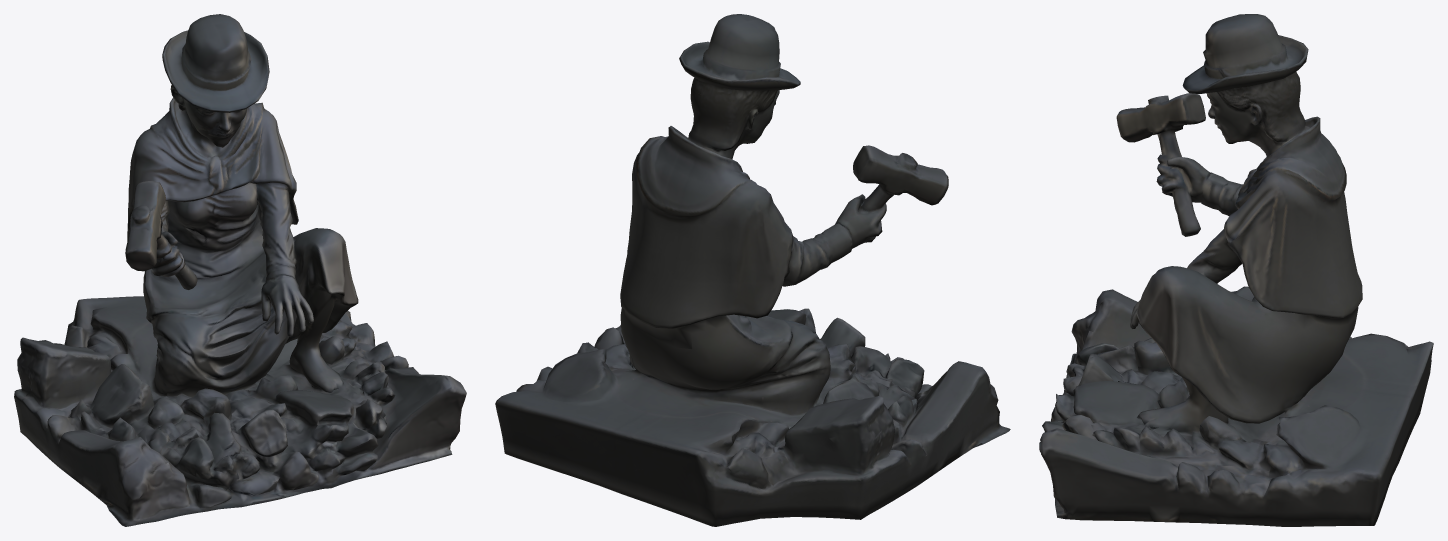
The model's file is palliriplz.glb.
3 views of the same model, side by side, from view 1: azimuth 30°, elevation 25°; view 2: azimuth 150°, elevation 25°; view 3: azimuth 270°, elevation 25° (orthographic). The views are drawn at different scales.
Visible parts, largest first — view 1: Mesh_0_002; view 2: Mesh_0_002; view 3: Mesh_0_002.
Part boxes in pixels (x1,y1,x2,y2): Mesh_0_002: (14,14,466,526); Mesh_0_002: (495,14,1010,526); Mesh_0_002: (1039,14,1433,526).
Size of the model in its own units: 1.79 by 2 by 1.68.
1 material, 1 textured.
